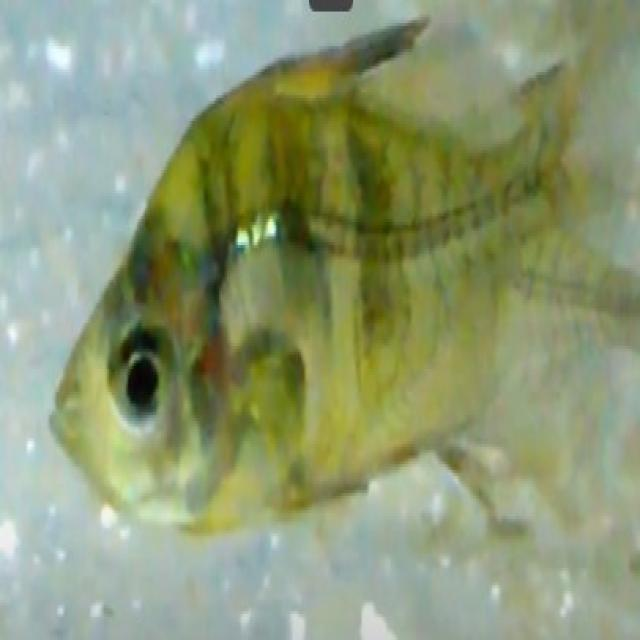Glass-Perchlet: (22, 0, 636, 640)
